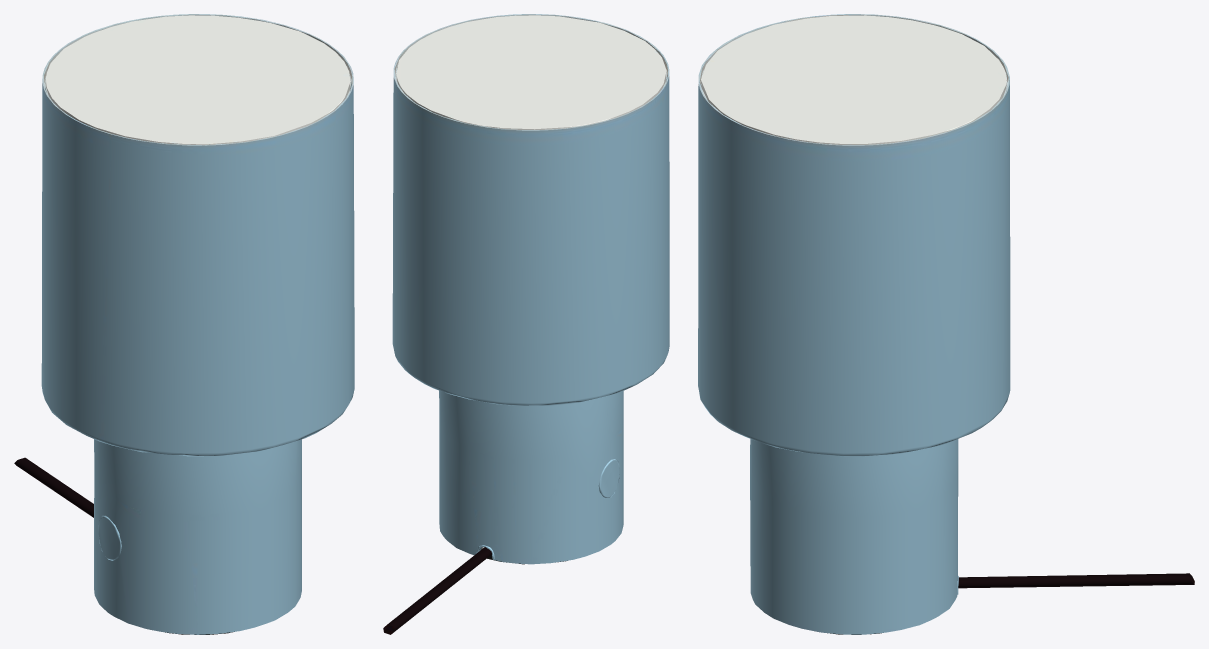
File: spetsboj_lampa_stoowa_40643306.glb
The picture shows the model from 3 angles, left to right: view 1: azimuth 30°, elevation 25°; view 2: azimuth 150°, elevation 25°; view 3: azimuth 270°, elevation 25°; orthographic projection. The views are drawn at different scales.
Visible parts, largest first — view 1: spetsboj_lampa_stoowa_40643306; view 2: spetsboj_lampa_stoowa_40643306; view 3: spetsboj_lampa_stoowa_40643306.
Boxes of the visible parts, bbox=[...] form: spetsboj_lampa_stoowa_40643306: bbox=[14, 14, 354, 634]; spetsboj_lampa_stoowa_40643306: bbox=[383, 14, 669, 634]; spetsboj_lampa_stoowa_40643306: bbox=[698, 14, 1194, 634].
Size of the model in its own units: 0.1201 by 0.2187 by 0.1912.
Materials: 1 (1 with a texture image).
